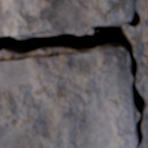brick: (0, 48, 136, 147), (0, 0, 133, 34)
crack: (0, 2, 147, 146)
